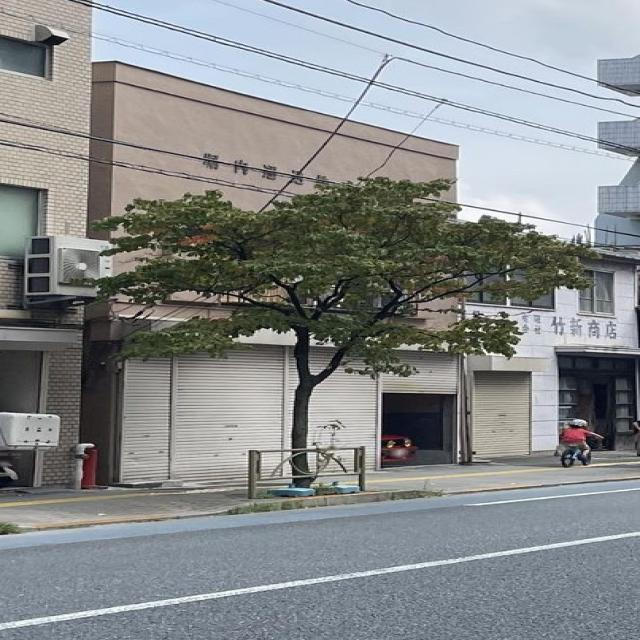dogwood: (91, 175, 604, 490)
